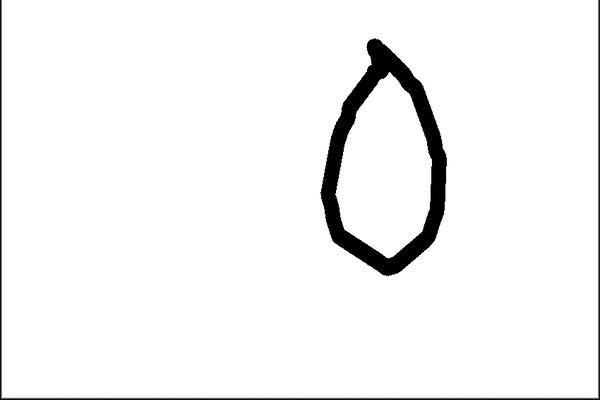O: (313, 25, 461, 280)
